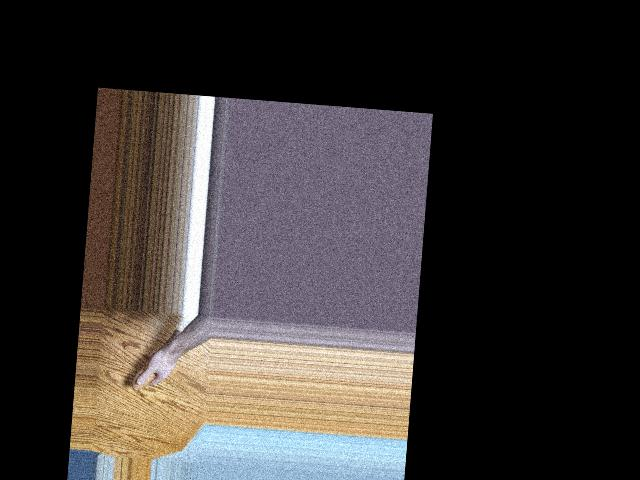sweet_potato: (130, 325, 179, 394)
